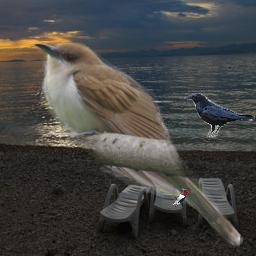Crow: (184, 93, 255, 138)
Cuckoo: (32, 42, 243, 247)
Woodpecker: (171, 187, 189, 210)
